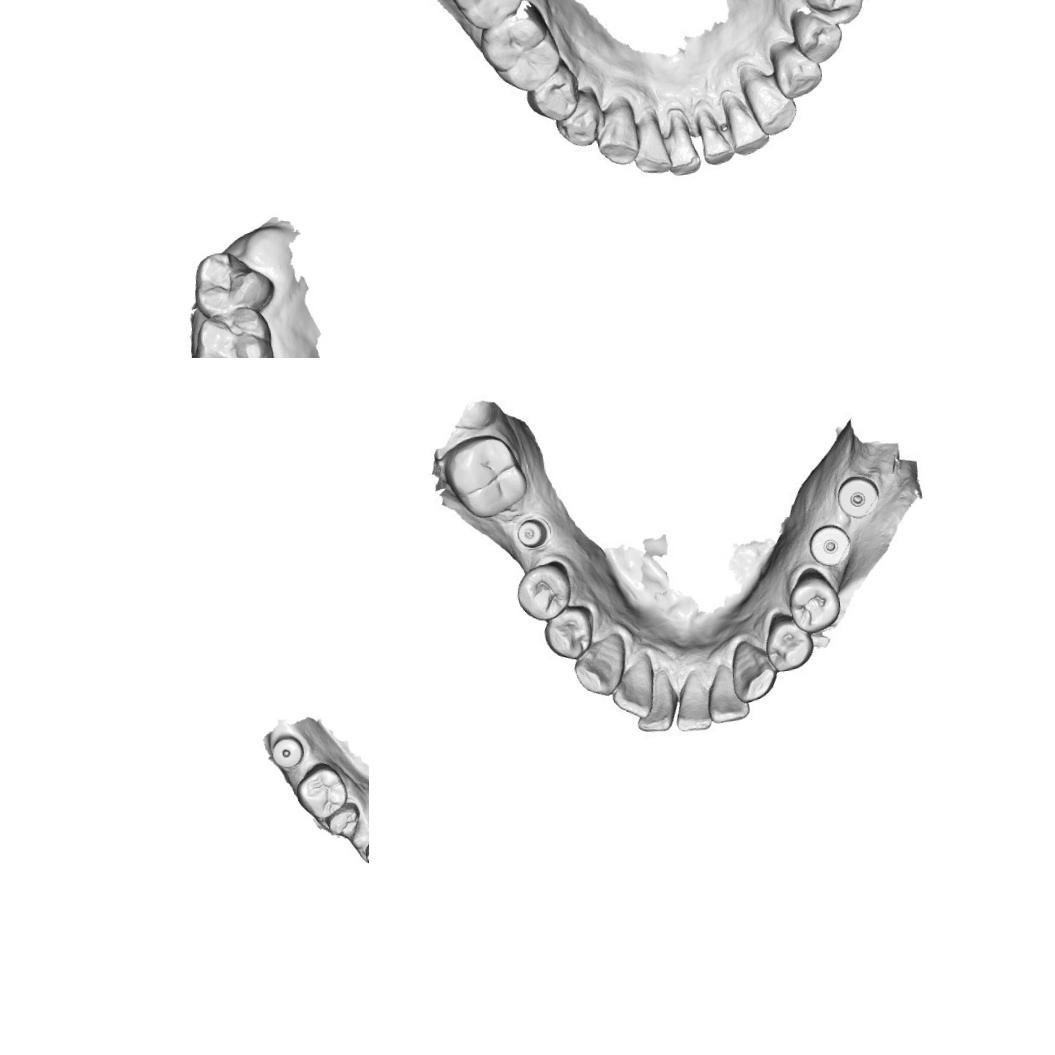canine: (742, 68, 800, 142), (567, 636, 625, 699), (590, 102, 642, 172), (730, 640, 780, 701)
crown: (360, 826, 369, 869)
implant: (835, 471, 880, 520), (810, 522, 854, 567), (268, 734, 306, 769), (516, 516, 551, 548)
incisor: (704, 668, 751, 730), (671, 670, 715, 734), (611, 656, 657, 717), (658, 111, 699, 179), (630, 114, 671, 181), (632, 674, 676, 736), (724, 95, 766, 156), (693, 112, 731, 170)
molar: (444, 434, 534, 524), (478, 6, 566, 97), (188, 244, 278, 319), (188, 303, 280, 358), (803, 0, 881, 31)
premolar: (548, 88, 611, 151), (512, 560, 574, 620), (291, 759, 350, 821), (786, 568, 842, 633), (764, 613, 818, 676), (542, 608, 598, 666), (522, 70, 582, 124), (795, 10, 843, 64), (776, 44, 822, 99)
